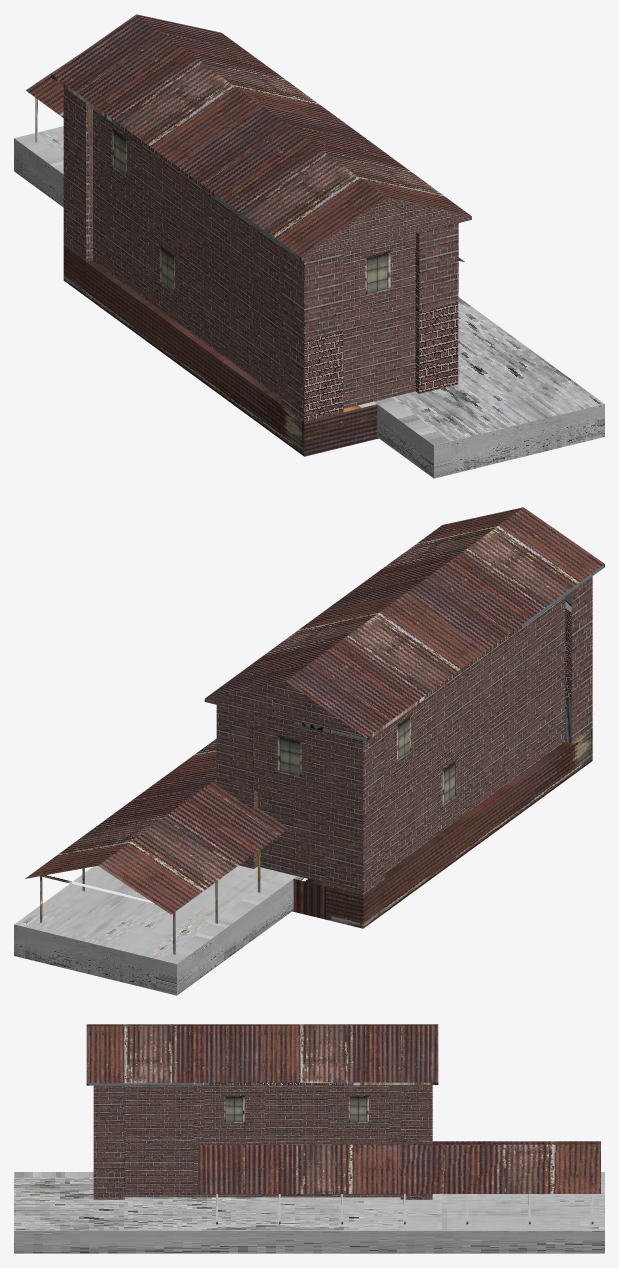
File: StationTex.gltf
3 renders of one model, top to bottom at view 1: azimuth 30°, elevation 25°; view 2: azimuth 150°, elevation 25°; view 3: azimuth 270°, elevation 25°, orthographic. The views are drawn at different scales.
Parts seen in each view (by area): view 1: Wind.004; view 2: Wind.004; view 3: Wind.004.
Boxes of the visible parts, x1,y1,x2,y2 form: Wind.004: (14, 14, 604, 478); Wind.004: (14, 507, 604, 995); Wind.004: (14, 1024, 604, 1253).
Size of the model in its own units: 3.27 by 3.03 by 9.45.
1 material, 1 textured.
